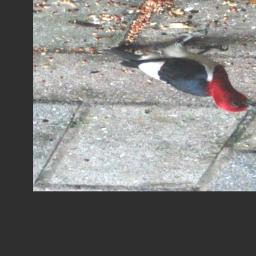Woodpecker: (99, 25, 256, 117)
